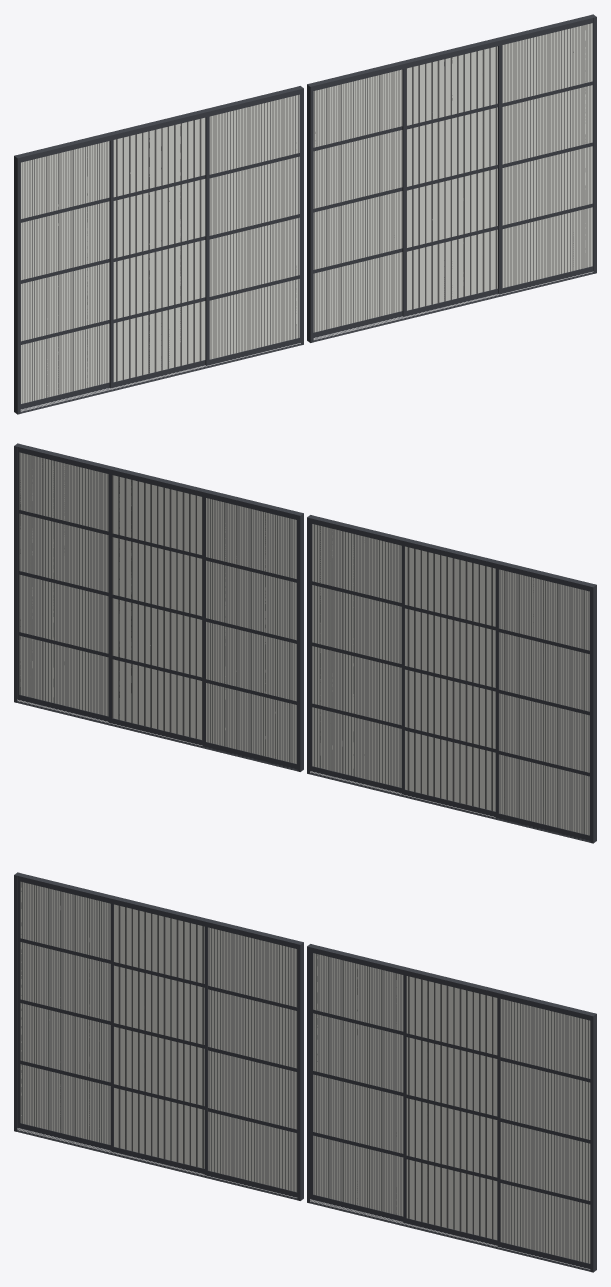
Rendered from nebbiolo_steel_door_front_600_350.glb.
The picture shows the model from 3 angles, top to bottom: view 1: azimuth 30°, elevation 25°; view 2: azimuth 150°, elevation 25°; view 3: azimuth 330°, elevation 25°; orthographic projection.
Visible parts, largest first — view 1: steel_door_front_600_350; view 2: steel_door_front_600_350; view 3: steel_door_front_600_350.
Boxes of the visible parts, left/top/right/bottom form: steel_door_front_600_350: left=14, top=14, right=596, bottom=414; steel_door_front_600_350: left=14, top=443, right=596, bottom=843; steel_door_front_600_350: left=14, top=872, right=596, bottom=1272.
Bounding box in the file's own units: 5.91 × 2.5 × 0.065.
Materials: 3 (2 with a texture image).
